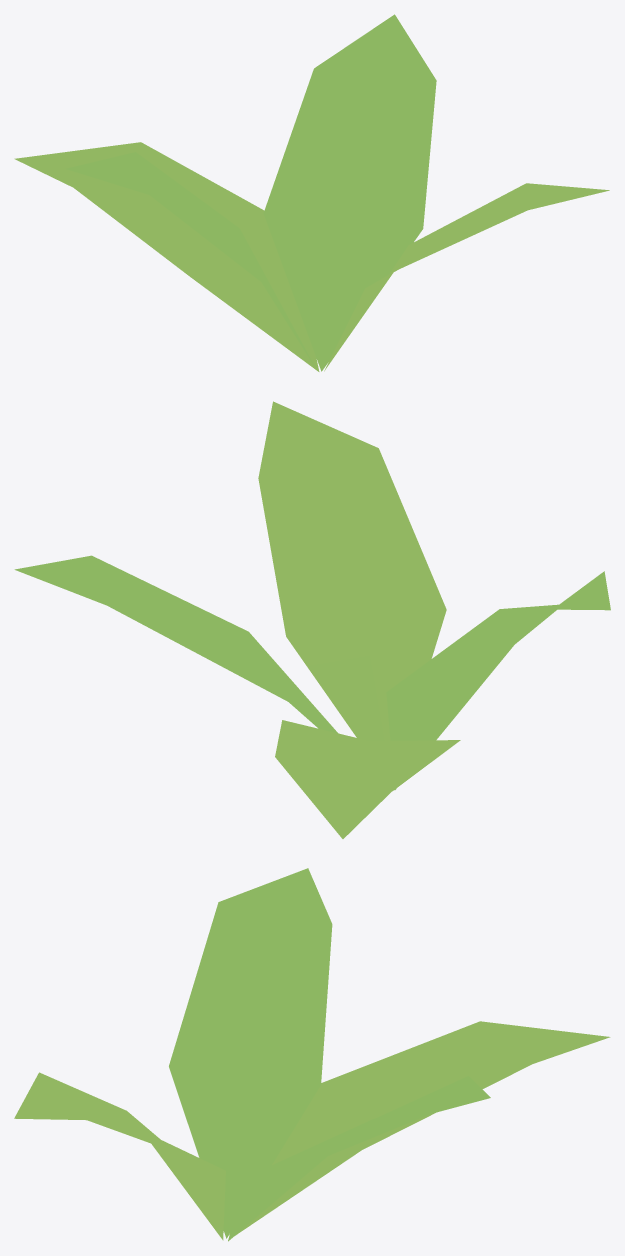
File: Plant_k_OneS_04.fbx
3 views of the same model, one above another, from view 1: azimuth 30°, elevation 25°; view 2: azimuth 150°, elevation 25°; view 3: azimuth 270°, elevation 25° (orthographic). The views are drawn at different scales.
Parts seen in each view (by area): view 1: Plant_k_OneS_04; view 2: Plant_k_OneS_04; view 3: Plant_k_OneS_04.
Boxes of the visible parts, bbox=[...] form: Plant_k_OneS_04: bbox=[14, 14, 609, 371]; Plant_k_OneS_04: bbox=[14, 401, 610, 838]; Plant_k_OneS_04: bbox=[14, 868, 610, 1241].
Size of the model in its own units: 0.3429 by 0.1827 by 0.3877.
